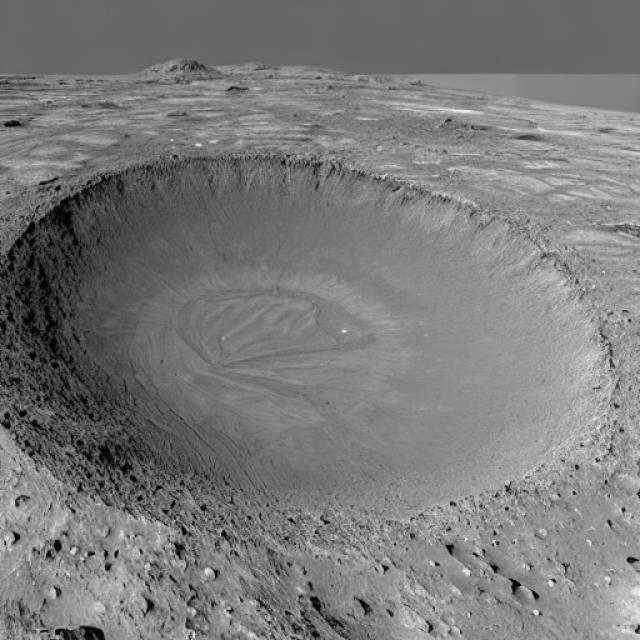crater: (0, 152, 611, 542)
